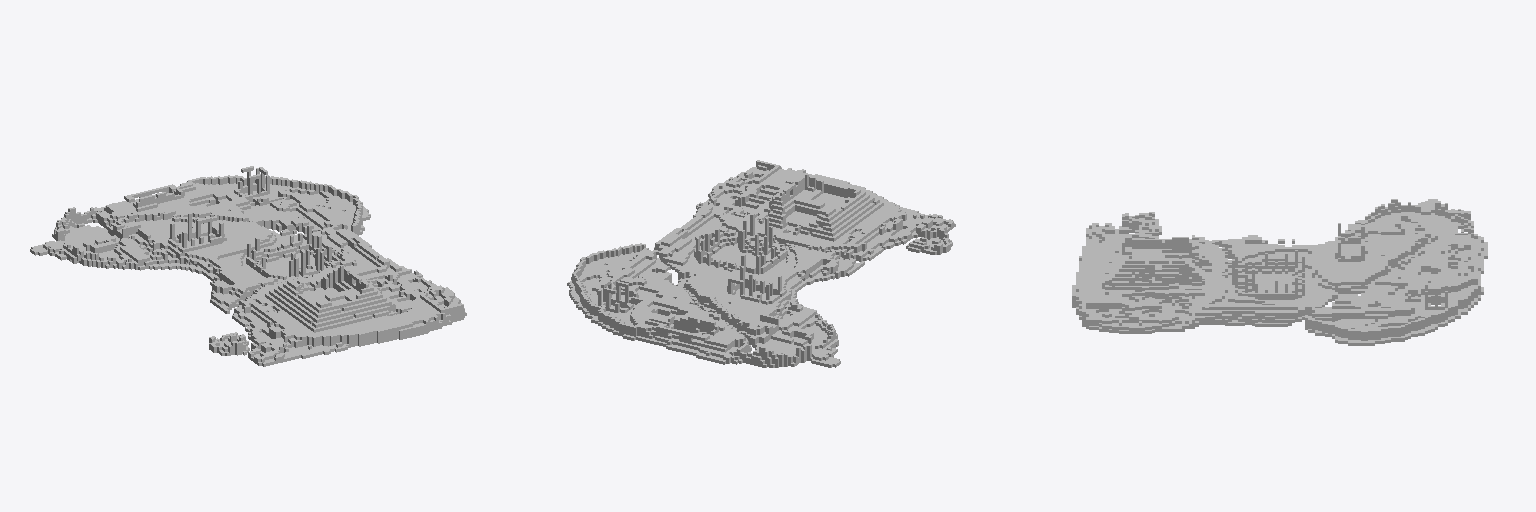
File: Desert.obj
3 views of the same model, side by side, from view 1: azimuth 30°, elevation 25°; view 2: azimuth 150°, elevation 25°; view 3: azimuth 270°, elevation 25° (orthographic).
Visible parts, largest first — view 1: object 1; view 2: object 1; view 3: object 1.
Boxes of the visible parts, box(x1,y1,x2,y2) form: object 1: box(30, 166, 466, 366); object 1: box(567, 160, 955, 367); object 1: box(1072, 199, 1487, 345).
Bounding box in the file's own units: 10.2 × 1.2 × 12.5.